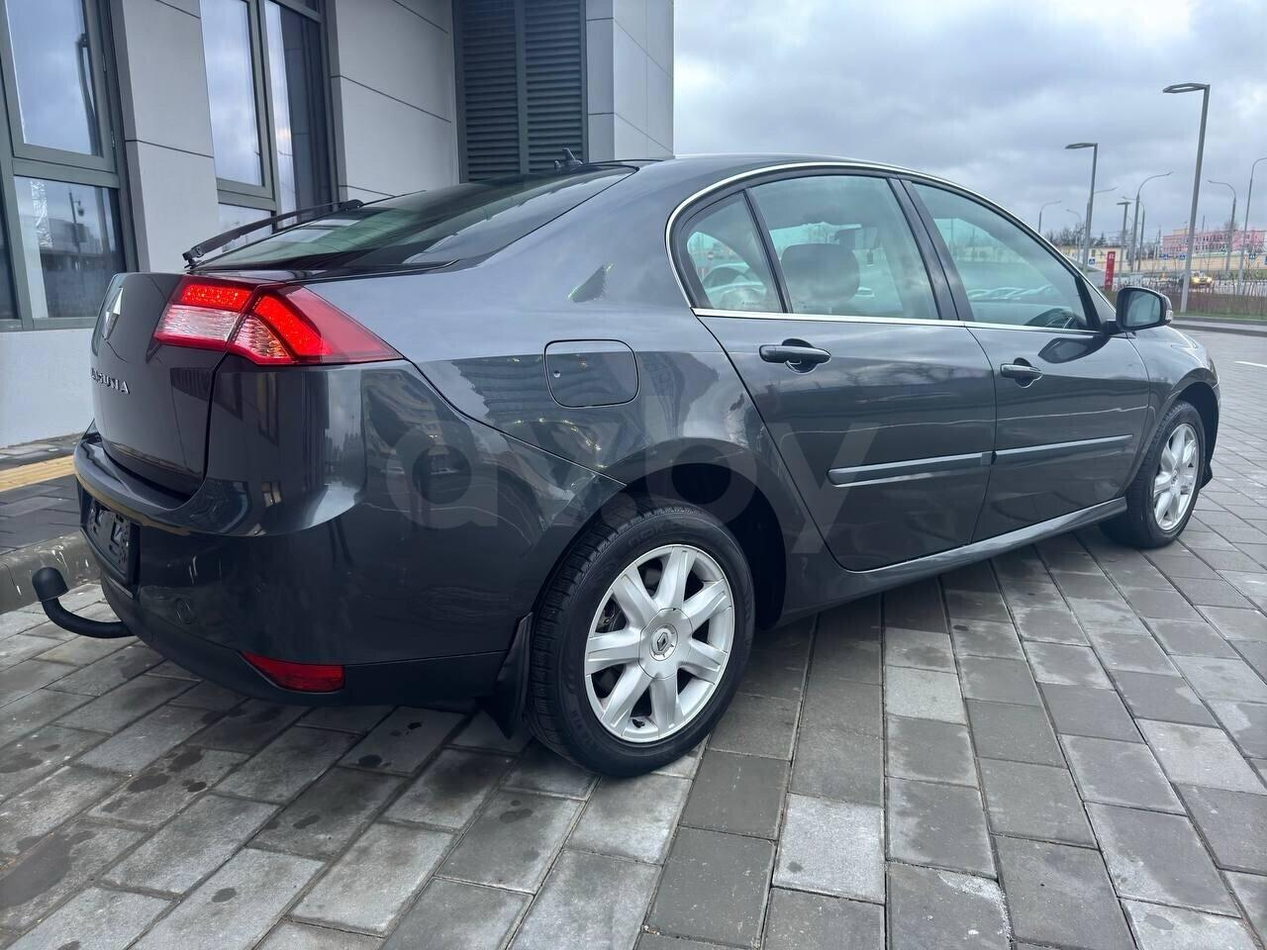Laguna_2010-2015: (43, 141, 1222, 795)
